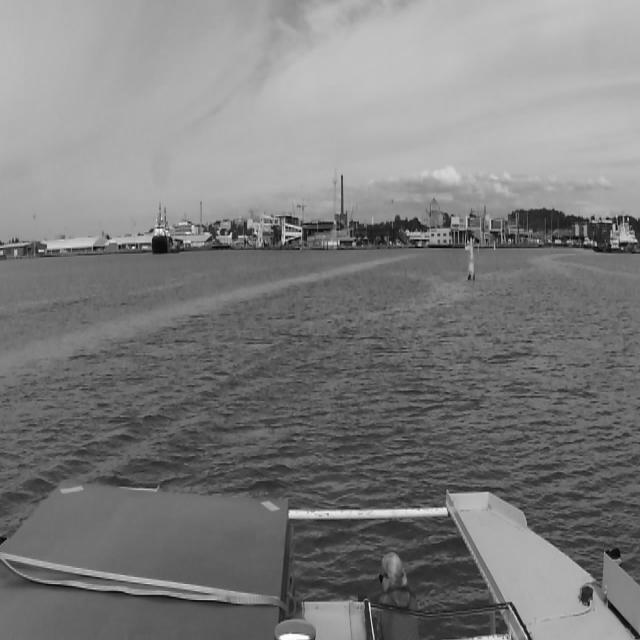buoy: (468, 237, 475, 282), (493, 241, 496, 251), (477, 244, 479, 254)
ship: (152, 202, 168, 254), (577, 236, 599, 252)
